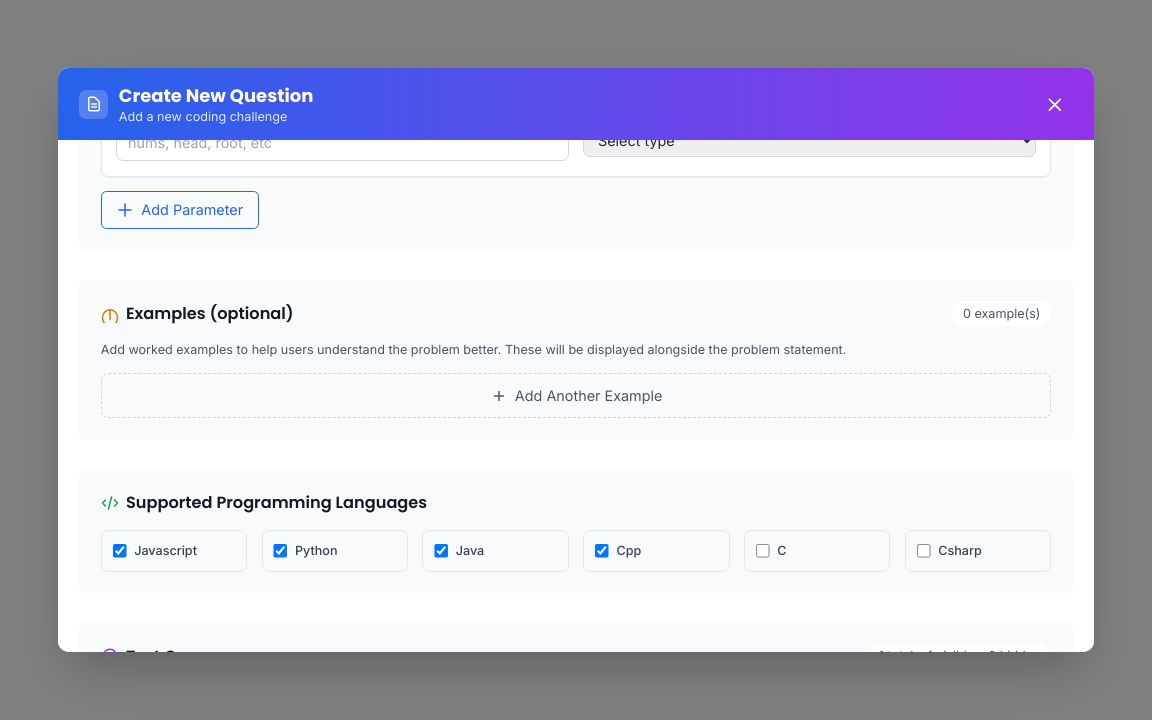
QuestionForm Component › Examples Section (NEW) › allows removing examples
(page scrolled)
Click the button "Add Another Example".
click(576, 396)  # box left=101, top=373, right=1051, bottom=418
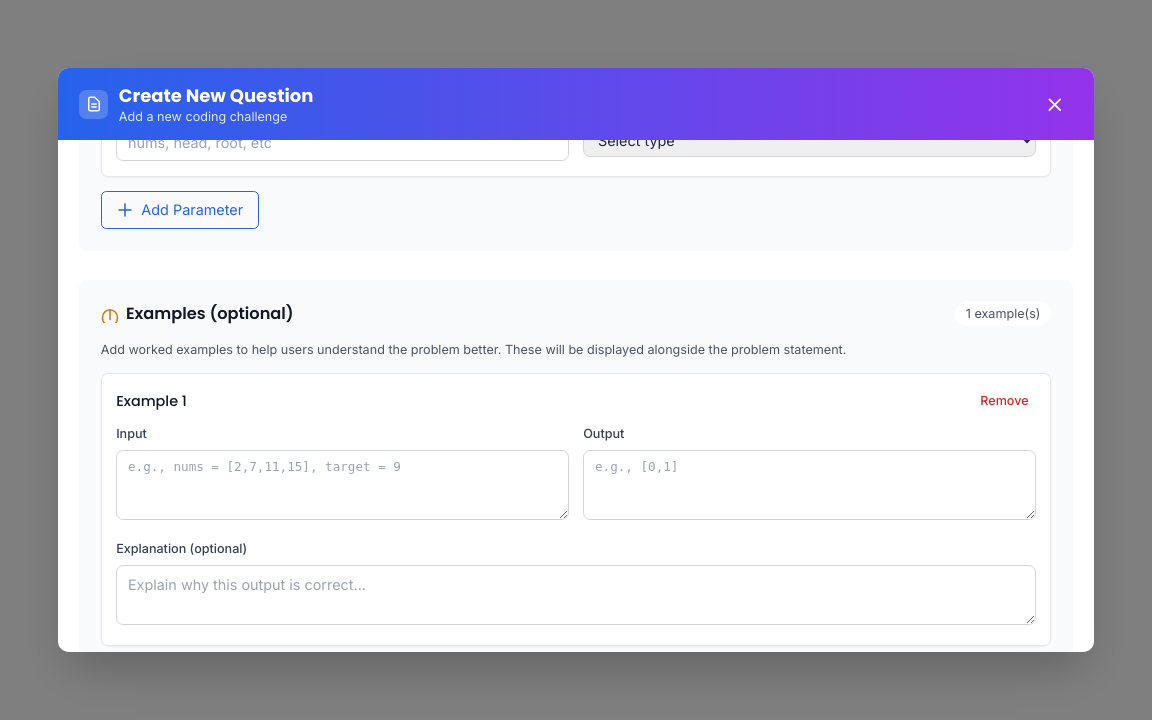
expect the heading "Example 1" is shown: met, box left=116, top=392, right=187, bottom=410
Click the button "Remove".
click(1004, 401)  # box left=973, top=389, right=1036, bottom=414
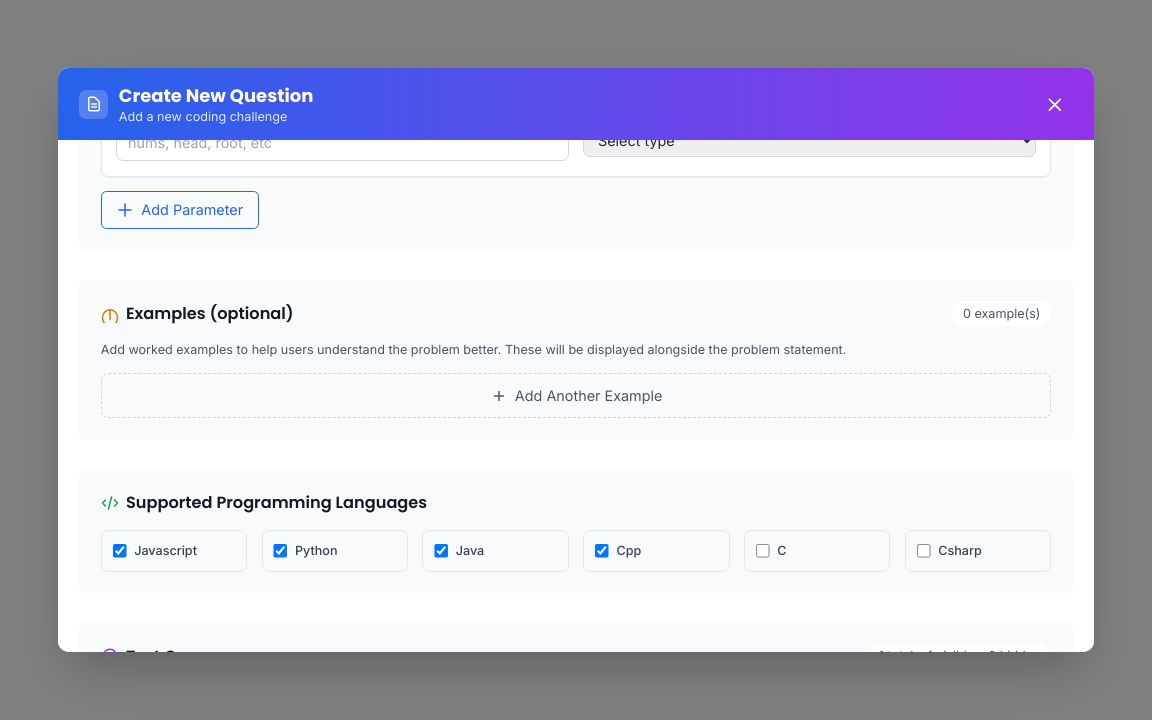
expect the heading "Example 1" is gone: met
